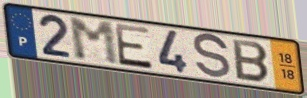2: (36, 12, 75, 62)
4: (156, 28, 193, 76)
B: (230, 37, 272, 85)
E: (112, 22, 155, 71)
M: (66, 17, 123, 68)
S: (192, 32, 233, 81)
